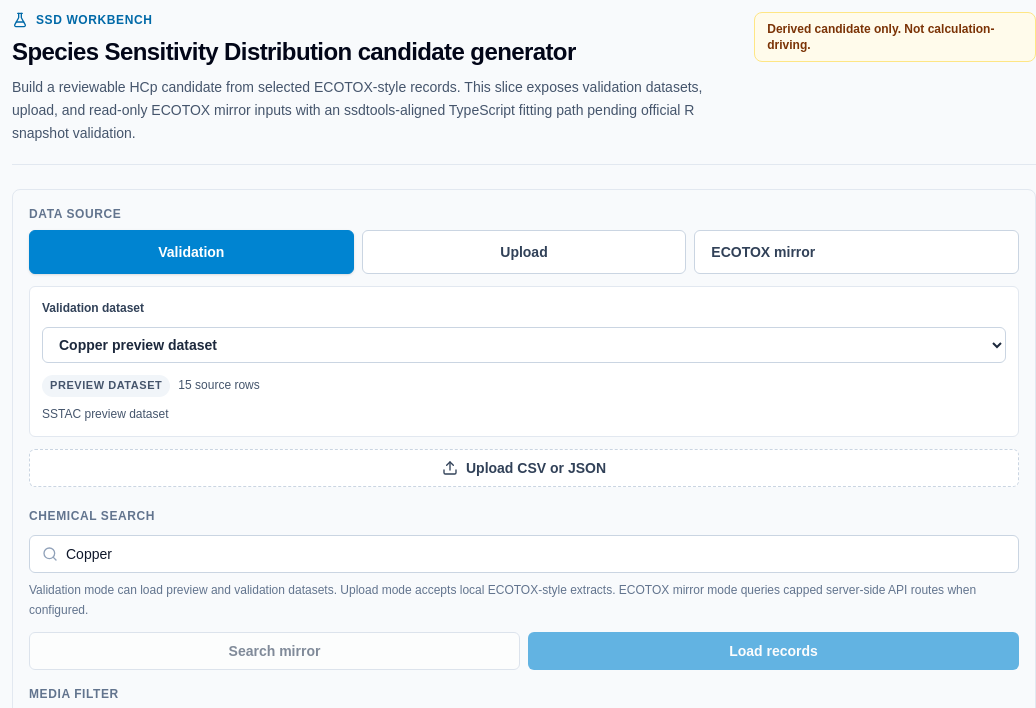
it: SsdWorkbench › shows configured ECOTOX mirror health without exposing credentials
Click the button "ECOTOX mirror": (857, 252) 694,230 -> 1019,274
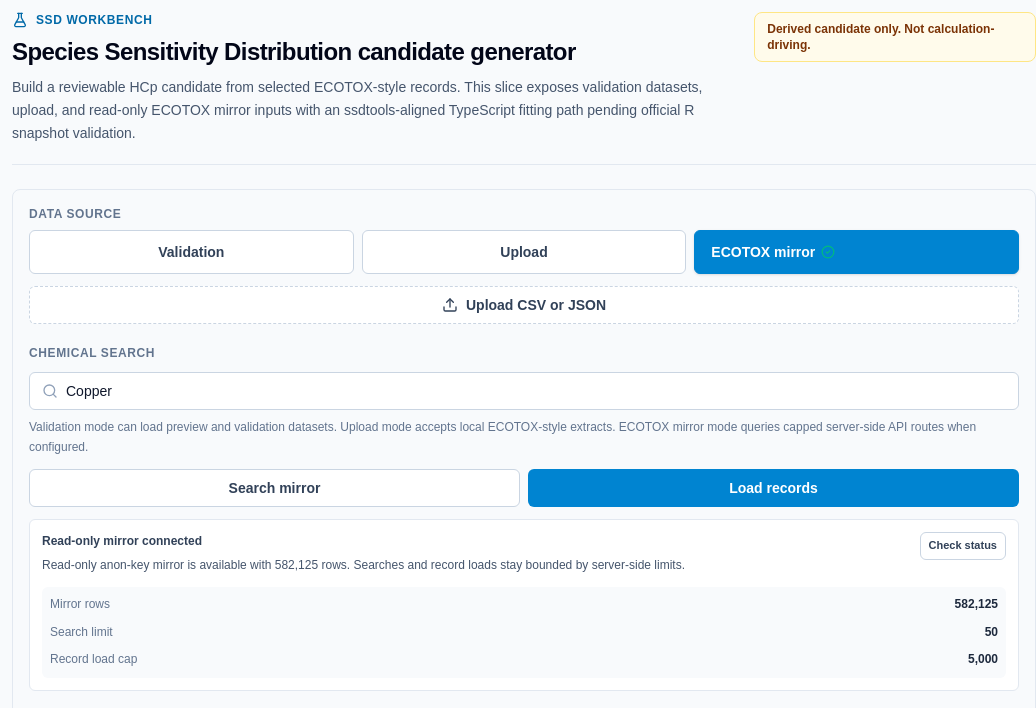
Result: the text "Read-only mirror connected" is shown at 42,534 -> 202,548
Result: the text "582,125" is shown at 42,558 -> 685,572
Result: the text "Search limit" is shown at 50,623 -> 113,642
